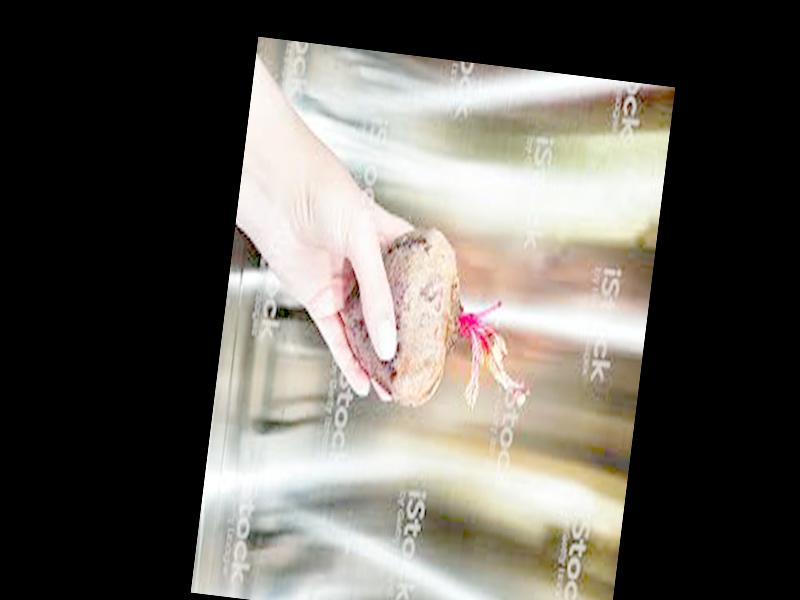Beet: (332, 221, 542, 420)
